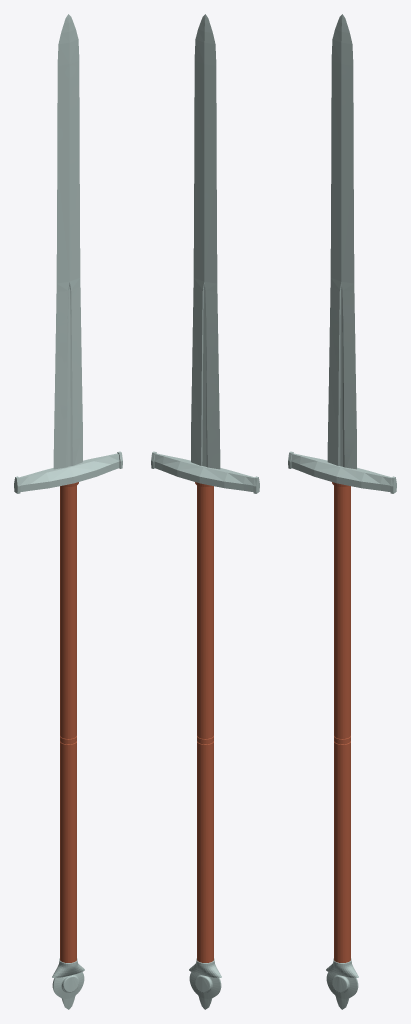
Rendered from SwordStaff.glb.
3 renders of one model, left to right at view 1: azimuth 30°, elevation 25°; view 2: azimuth 150°, elevation 25°; view 3: azimuth 330°, elevation 25°, orthographic.
Parts seen in each view (by area): view 1: Swordstaff; view 2: Swordstaff; view 3: Swordstaff.
Part boxes in pixels (bbox=[...]): Swordstaff: bbox=[14, 14, 122, 1009]; Swordstaff: bbox=[151, 14, 259, 1009]; Swordstaff: bbox=[288, 14, 396, 1009].
Size of the model in its own units: 0.2119 by 1.91 by 0.0405.
Materials: 1 (1 with a texture image).
